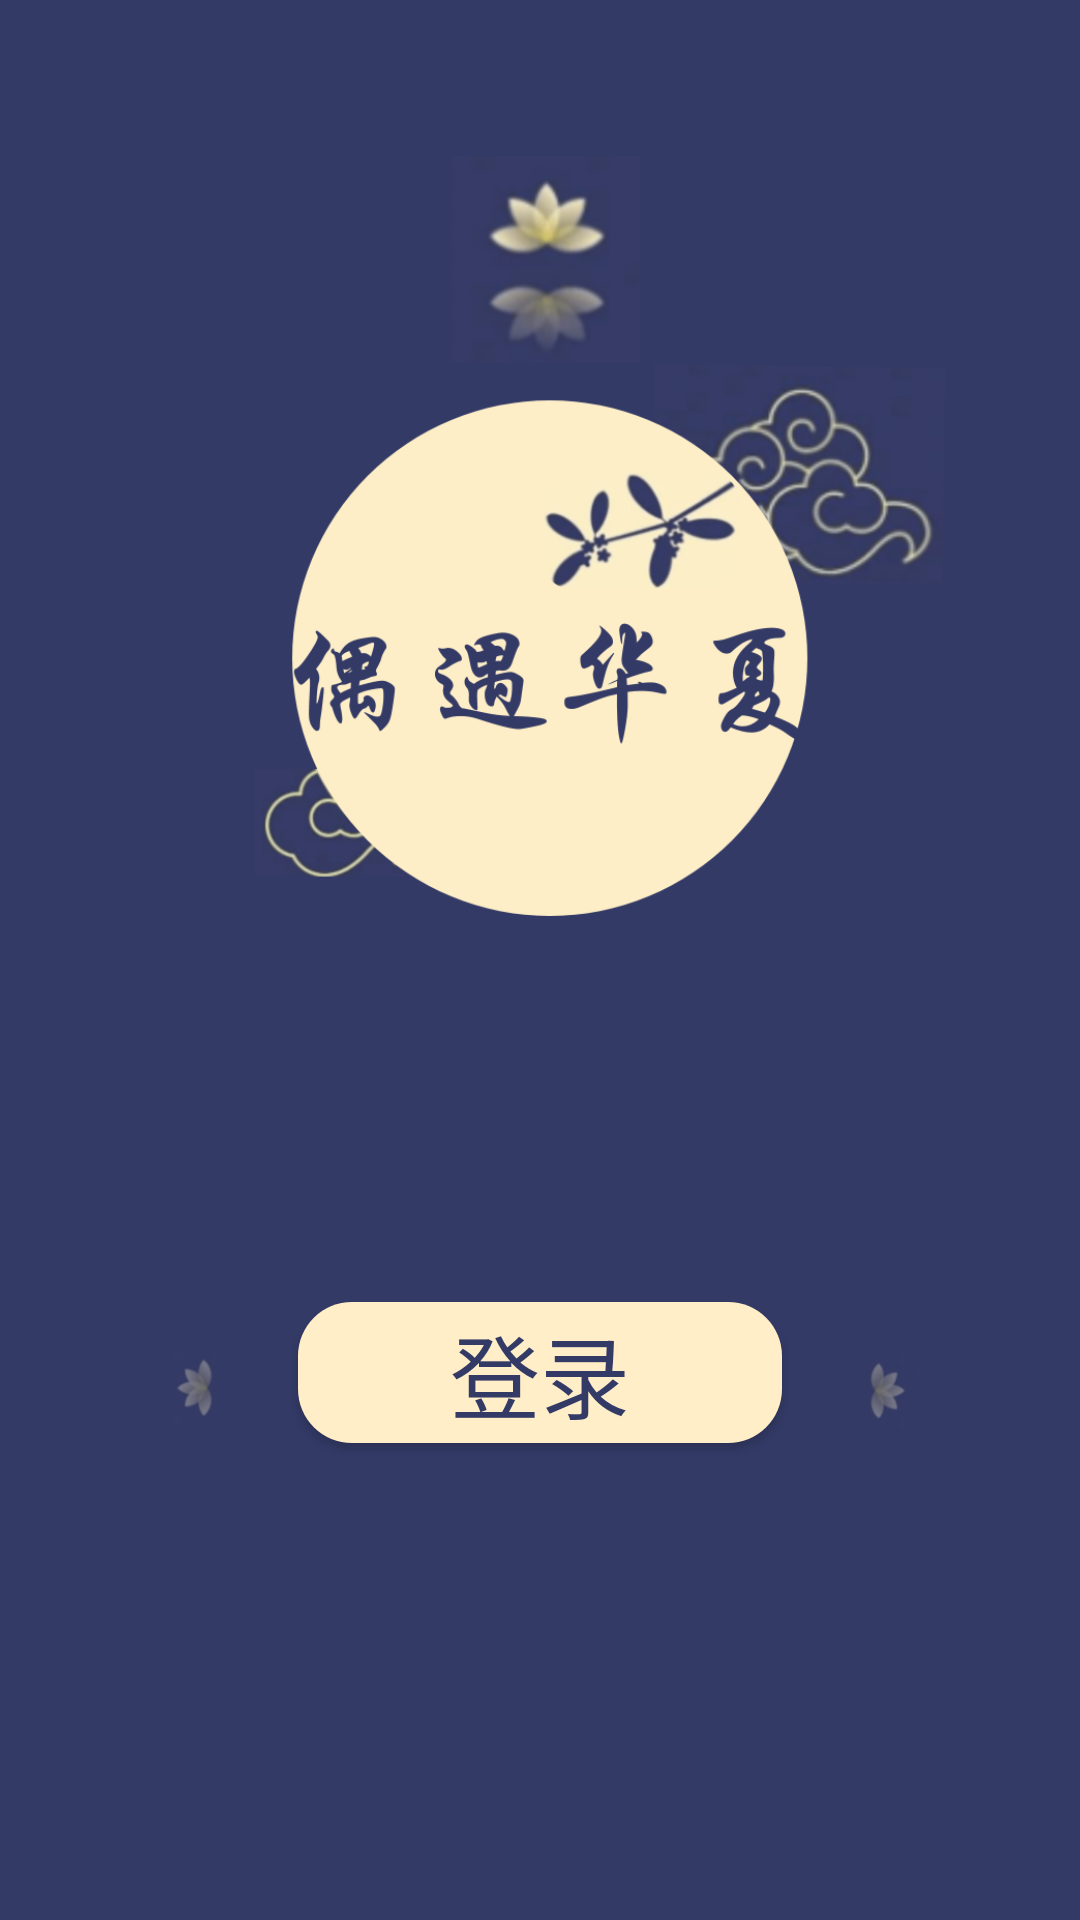

Where to tap for icons on this 1080 x 1920 app screen, as point (x, y):
lotus left: point (194, 1387)
lotus right: point (887, 1391)
